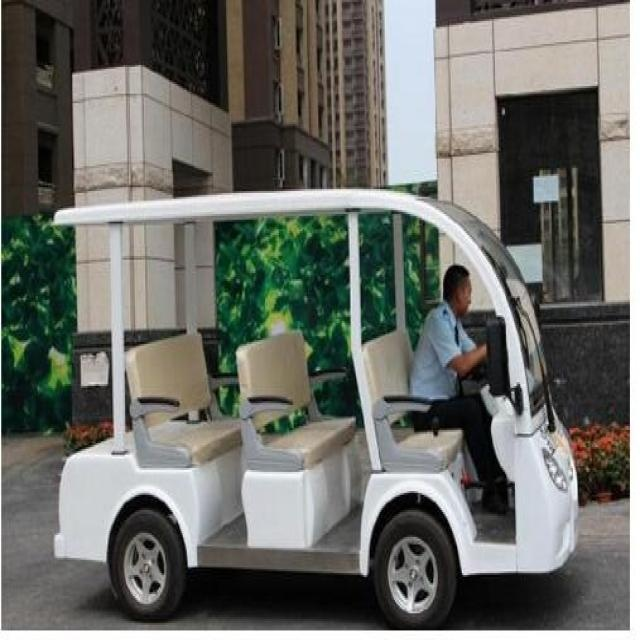Sin_Casco_Mascarrilla: (444, 264, 474, 319)
